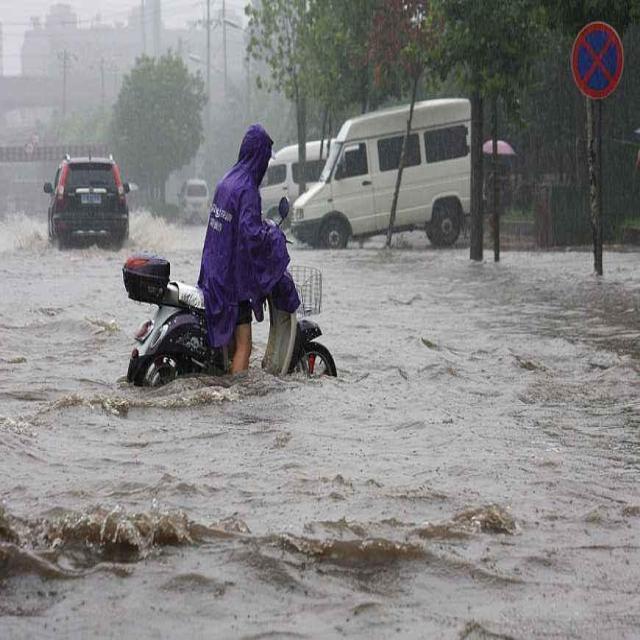car: (290, 96, 477, 247), (40, 150, 130, 243), (256, 136, 334, 220), (178, 174, 205, 222)
